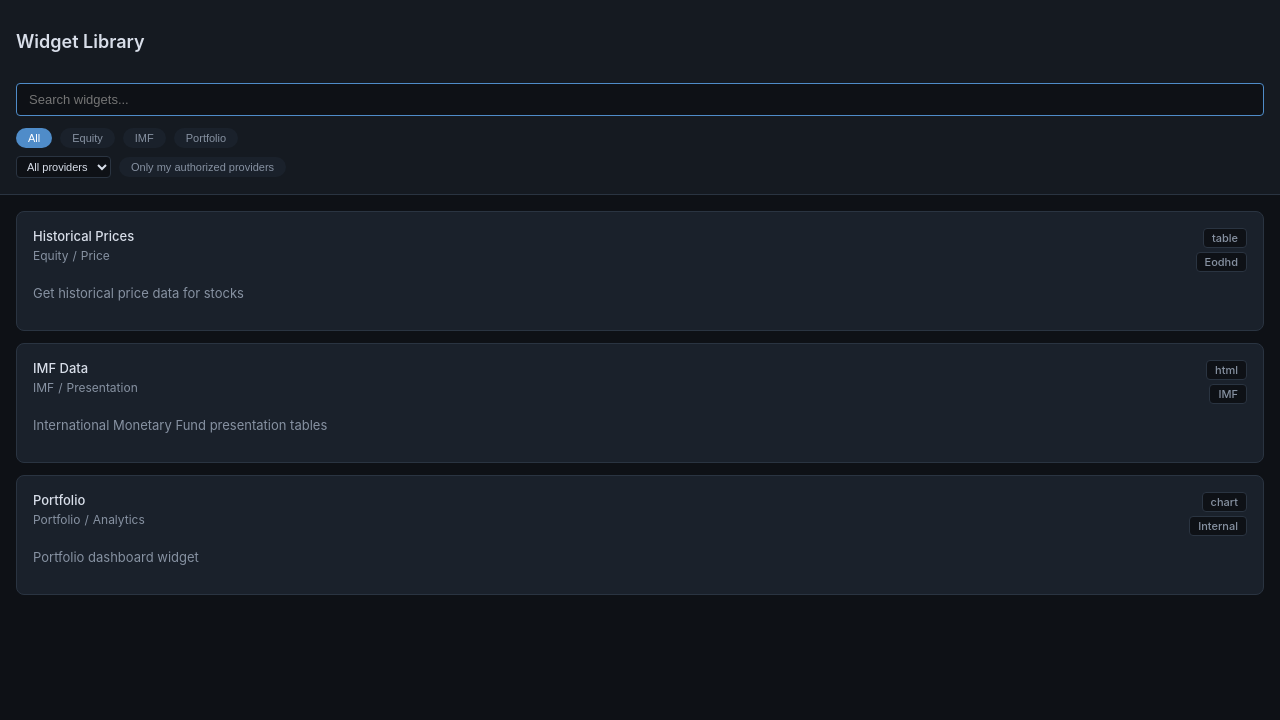
WidgetLibrary › filters widgets by search term
The image size is (1280, 720).
Type "dashboard" into the field with placeholder "Search widgets...".
click(640, 99); type("dashboard")  # box [16, 83, 1264, 116]
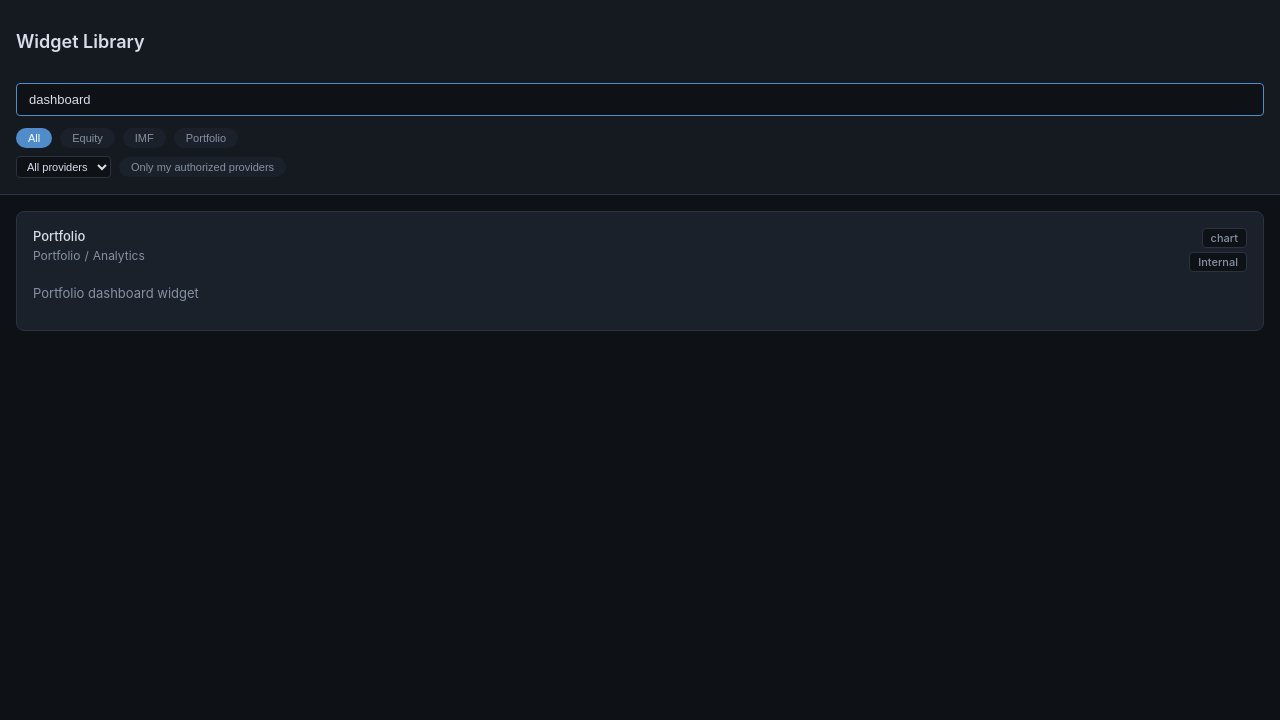
Expected: the text "Portfolio dashboard widget" is shown, [33, 285, 199, 301]
Result: the button "Get historical price data for stocks" is gone
Result: the button "International Monetary Fund" is gone
